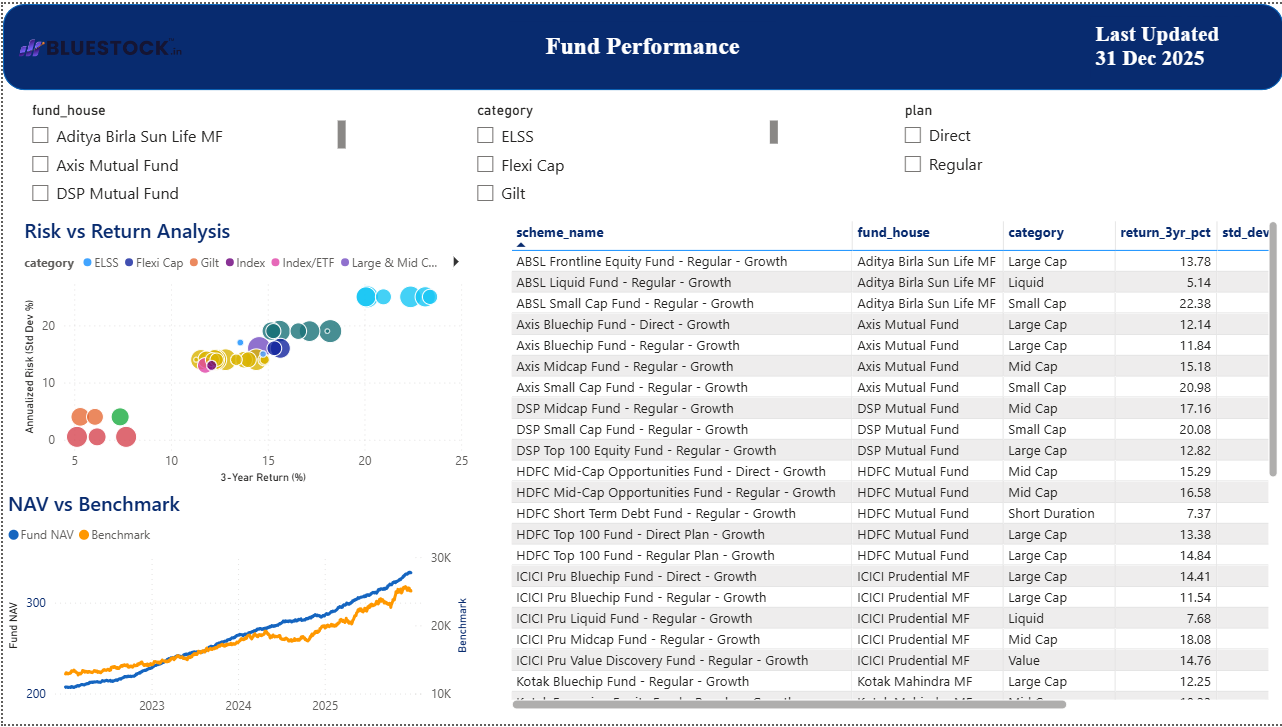

This screenshot's page, from the dashboard's own definition file:
{"tool":"powerbi","page":{"name":"Fund Performance ","canvas":[1280,720],"ordinal":1},"visuals":[{"type":"shape","box":[0,0,1280.3,86.2],"z":0},{"type":"image","box":[0,0,180.4,86.2],"z":1000},{"type":"textbox","box":[506.2,17.5,266.6,51.2],"z":2000},{"type":"textbox","box":[16.2,297.5,189.8,49.8],"z":3000},{"type":"textbox","box":[1087.8,12.1,150.8,61.9],"z":4000},{"type":"scatterChart","title":"Risk vs Return Analysis","fields":{"Y":["clean_scheme_performance.std_dev_ann_pct"],"Series":["clean_scheme_performance.category"],"X":["clean_scheme_performance.return_3yr_pct"],"Size":["Sum(clean_scheme_performance.aum_crore)"]},"box":[16.8,212.4,454.1,272.5],"z":5000},{"type":"slicer","fields":{"Values":["clean_scheme_performance.fund_house"]},"box":[16.8,92.2,331.2,120.2],"z":6000},{"type":"slicer","fields":{"Values":["clean_scheme_performance.category"]},"box":[461.1,92.2,318.6,120.2],"z":7000},{"type":"slicer","fields":{"Values":["clean_scheme_performance.plan"]},"box":[888.7,92.2,283.7,120.2],"z":8000},{"type":"tableEx","fields":{"Values":["clean_scheme_performance.scheme_name","clean_scheme_performance.fund_house","clean_scheme_performance.category","clean_scheme_performance.return_3yr_pct","clean_scheme_performance.std_dev_ann_pct","clean_scheme_performance.sharpe_ratio","clean_scheme_performance.expense_ratio_pct"]},"box":[503.1,212.4,776.9,497.5],"z":9000},{"type":"lineChart","title":"NAV vs Benchmark","fields":{"Y":["clean_nav_history.Fund NAV"],"Y2":["clean_benchmark_indices.Benchmark"],"Category":["Calendar.Date"]},"box":[0,484.9,470.9,234.8],"z":10000}]}

Visuals, with their boxes in screenshot pixels (x1, y1, x2, y2), scaled from the page's 1280x720 canvas onto the 1282x727 screenshot:
shape: 0, 0, 1281, 87
image: 0, 0, 181, 87
textbox: 507, 18, 774, 69
textbox: 16, 300, 206, 351
textbox: 1089, 12, 1241, 75
"Risk vs Return Analysis" scatterChart: 17, 214, 472, 490
slicer - clean_scheme_performance.fund_house: 17, 93, 349, 214
slicer - clean_scheme_performance.category: 462, 93, 781, 214
slicer - clean_scheme_performance.plan: 890, 93, 1174, 214
tableEx - clean_scheme_performance.scheme_name x clean_scheme_performance.fund_house: 504, 214, 1281, 717
"NAV vs Benchmark" lineChart: 0, 490, 472, 726
